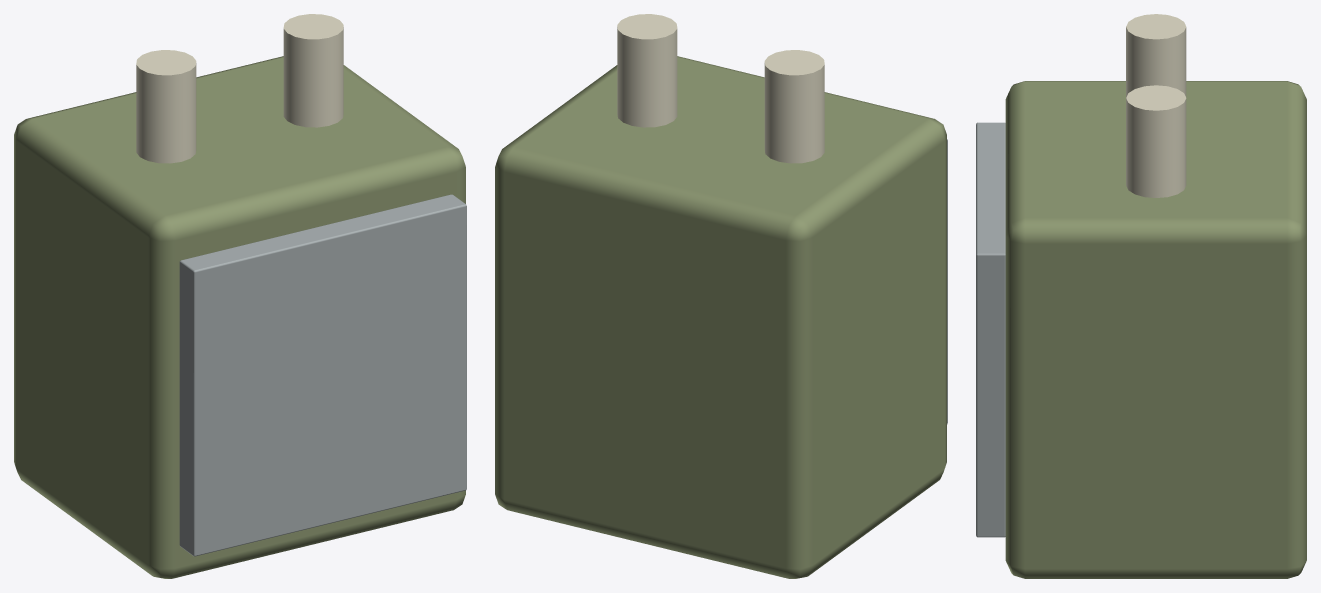
Rendered from off-grid-power-and-controls-transformer-box-05e1ff88__2989.glb.
3 views of the same model, side by side, from view 1: azimuth 30°, elevation 25°; view 2: azimuth 150°, elevation 25°; view 3: azimuth 270°, elevation 25° (orthographic).
Visible parts, largest first — view 1: transformer-box, door/metal; view 2: transformer-box; view 3: transformer-box, door/metal.
Boxes of the visible parts, x1,y1,x2,y2 form: transformer-box: (14, 14, 465, 578); door/metal: (179, 194, 466, 556); transformer-box: (495, 14, 946, 578); transformer-box: (1005, 14, 1306, 578); door/metal: (976, 122, 1005, 537).
Size of the model in its own units: 0.3 by 0.41 by 0.2745.
